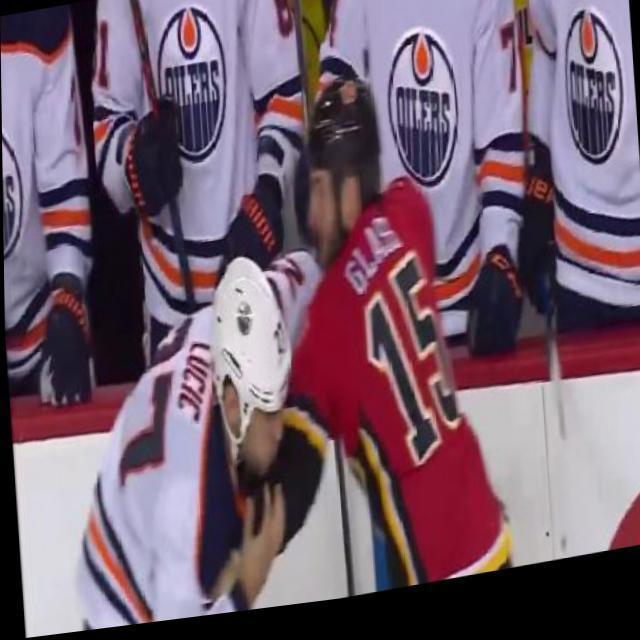fight: (59, 68, 478, 634)
